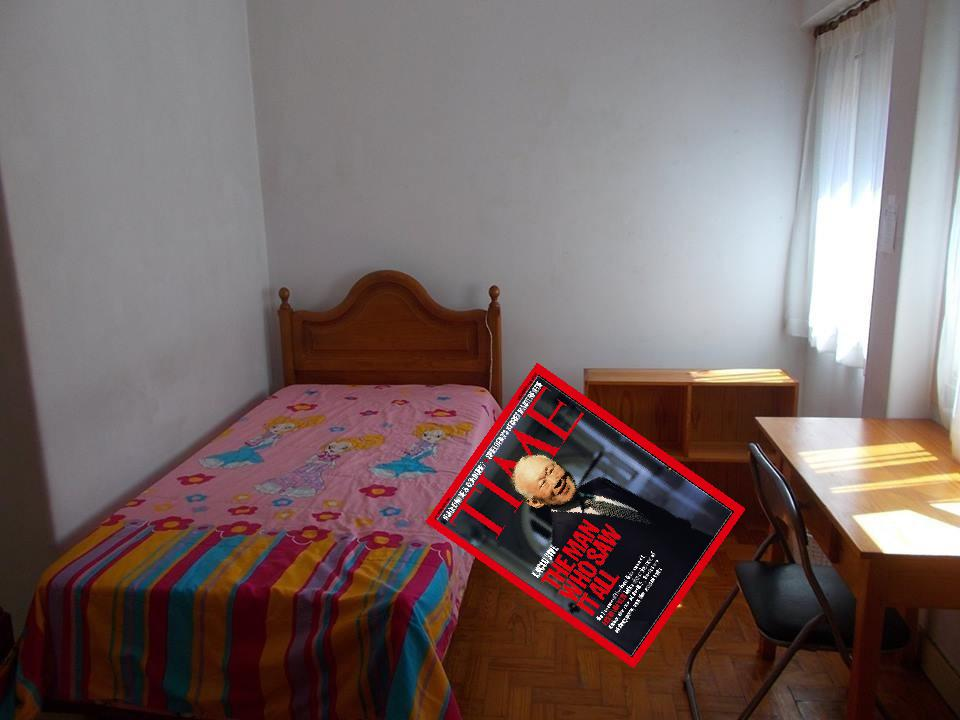times: (415, 357, 747, 675)
